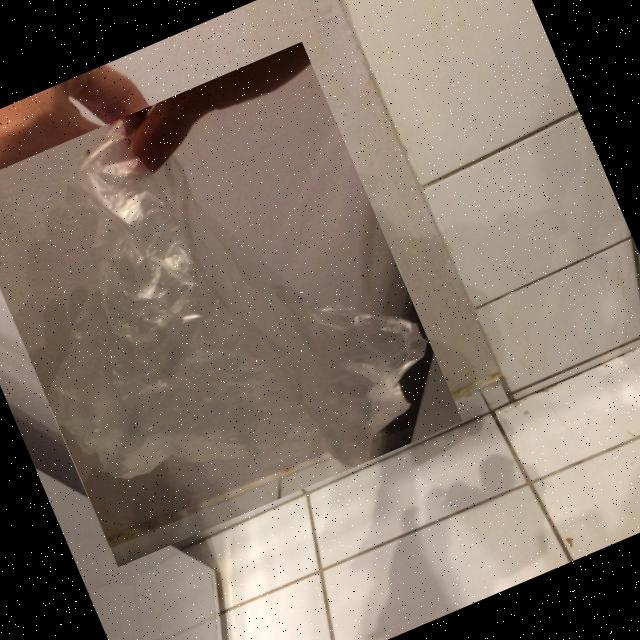Plastic film: (51, 116, 429, 479)
